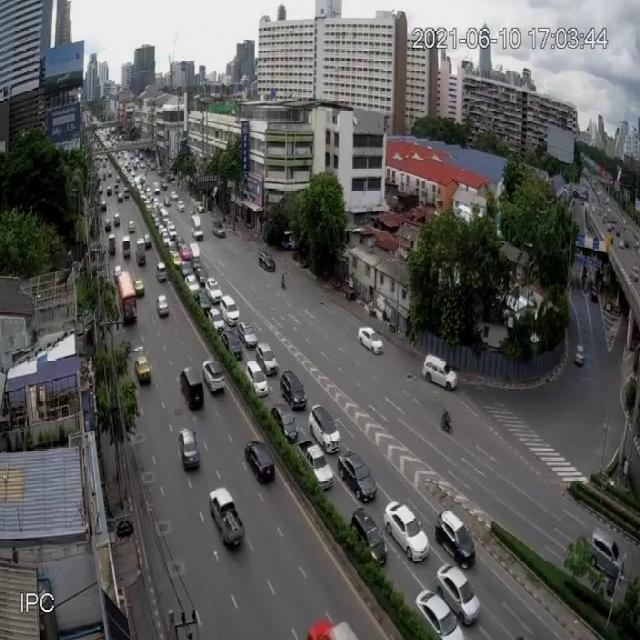Car: (385, 504, 431, 570), (435, 562, 480, 627), (414, 588, 465, 640), (434, 509, 476, 568), (350, 507, 387, 567), (209, 485, 244, 548), (338, 452, 377, 502), (301, 440, 334, 491), (308, 403, 341, 452), (590, 528, 622, 573), (244, 439, 276, 483), (422, 354, 458, 392), (280, 370, 308, 411), (270, 402, 298, 442), (178, 428, 200, 472), (202, 358, 226, 396), (246, 359, 269, 396), (255, 342, 278, 375), (358, 326, 383, 355), (220, 328, 243, 359), (237, 320, 258, 348), (134, 355, 152, 384), (205, 278, 222, 306), (207, 305, 224, 332), (258, 252, 276, 272), (186, 276, 200, 300), (156, 294, 170, 317), (574, 344, 585, 366), (156, 262, 167, 283), (212, 224, 226, 238), (114, 265, 122, 278), (619, 239, 624, 248)
Truck: (115, 255, 139, 324)
